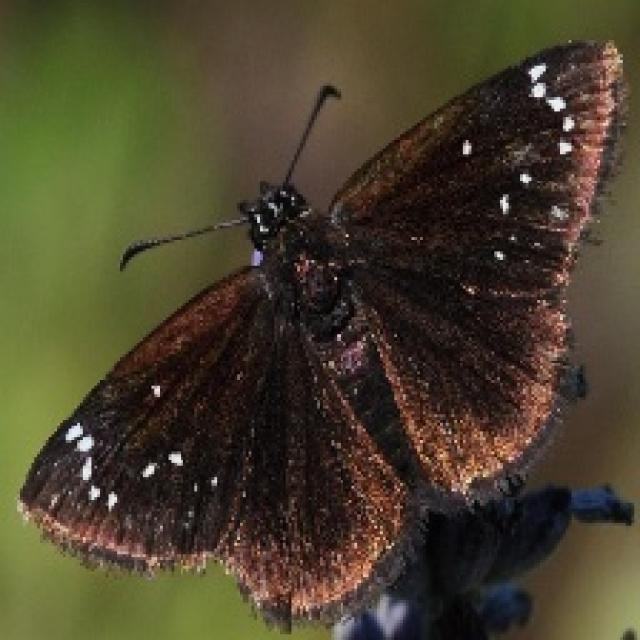butterfly: (14, 35, 632, 634)
